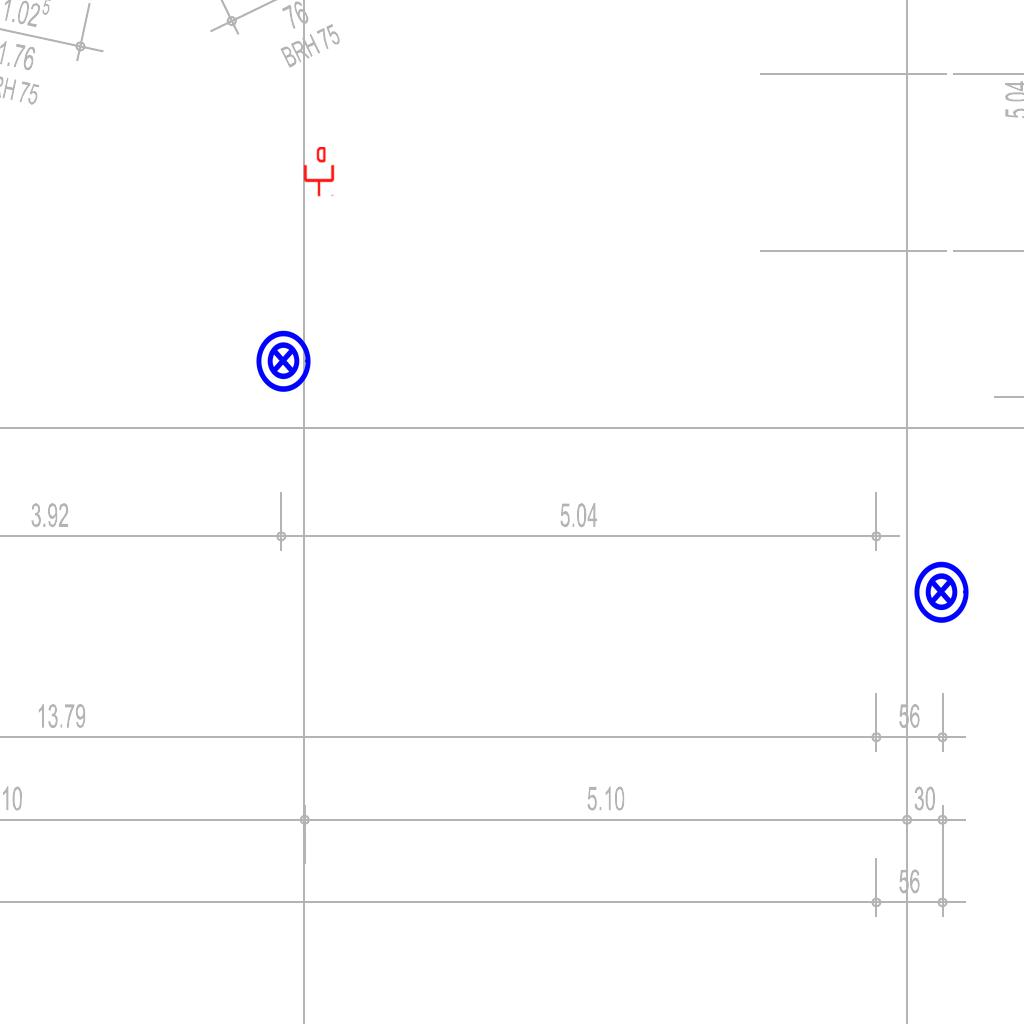Datenanschluss_einfach: (302, 147, 336, 197)
Taster_beleuchtet: (908, 559, 974, 625), (250, 328, 316, 394)
